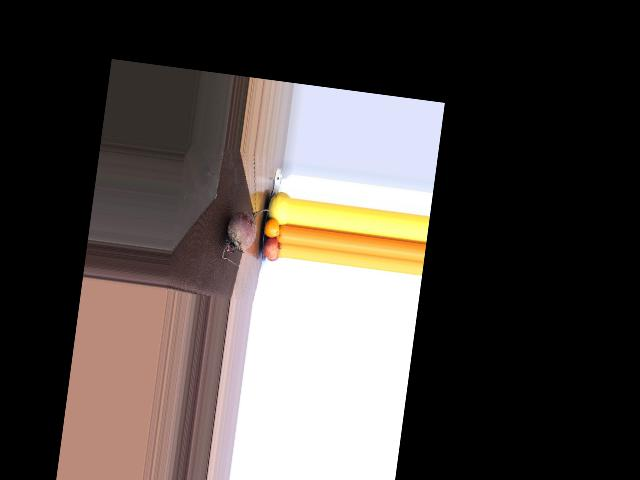beet: (220, 203, 272, 269)
